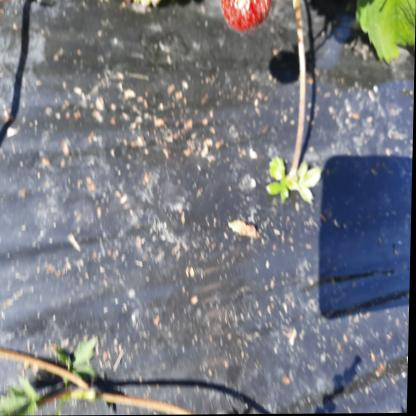ripe: (217, 0, 276, 35)
